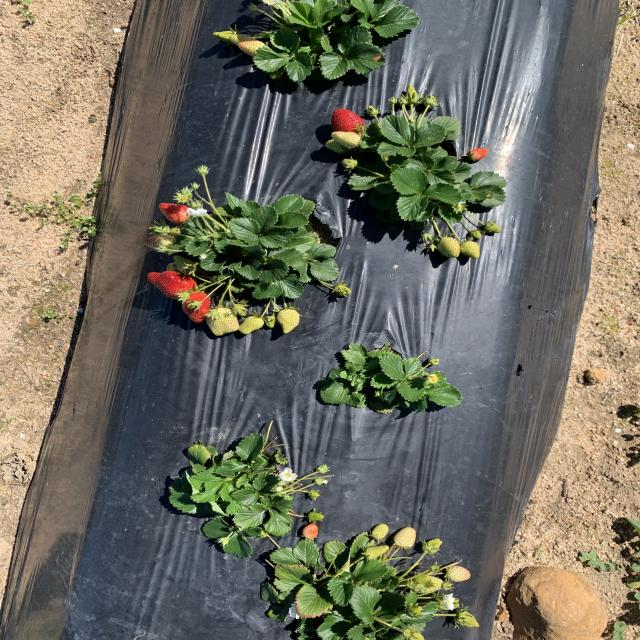unripe: (146, 271, 200, 299), (329, 108, 364, 137), (181, 291, 211, 324), (158, 200, 192, 222)
